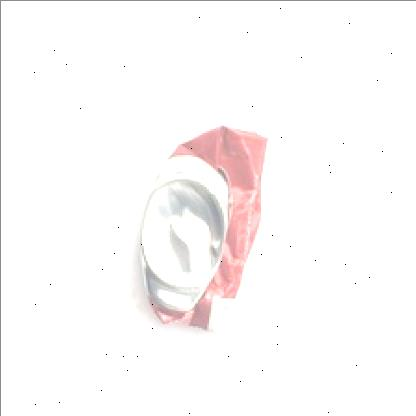Can: (119, 107, 280, 338)
